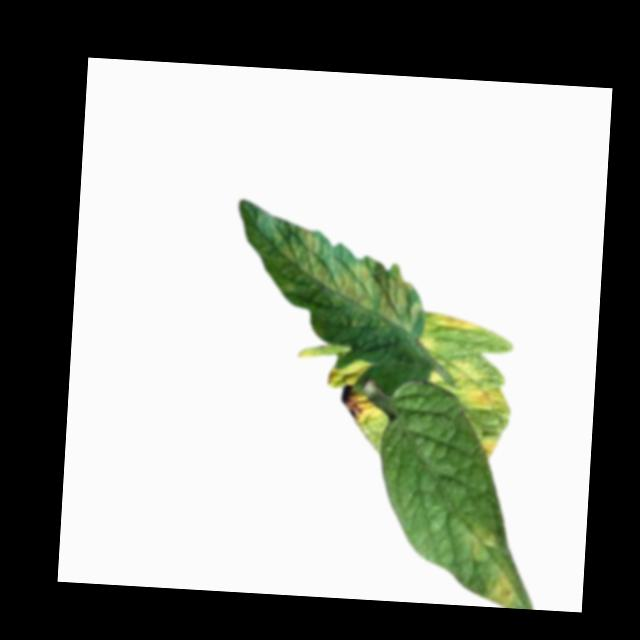Leaf_Mold: (266, 217, 426, 335), (425, 357, 512, 415), (325, 356, 385, 427), (483, 572, 518, 607), (465, 527, 499, 563), (428, 312, 485, 333), (478, 436, 499, 463)
